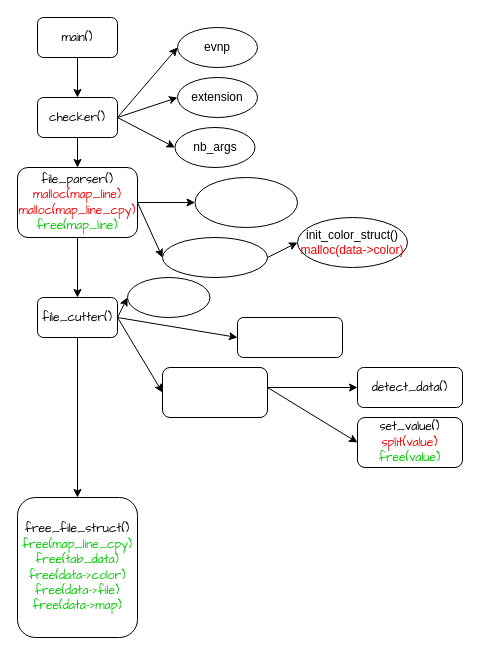
This 480x655 diagram has some shape labels left out. Each missing label, with the centre of its shape:
"check_order_data()" goes at (x=289, y=337).
"extract_data() split(split_settings) free(splitt_settings)" goes at (x=215, y=392).
"init_file_struct() malloc(data->map)" goes at (x=246, y=202).
"init_map_struct() malloc(data->file)" goes at (x=215, y=257).
"split(tab_data)" goes at (x=168, y=297).
